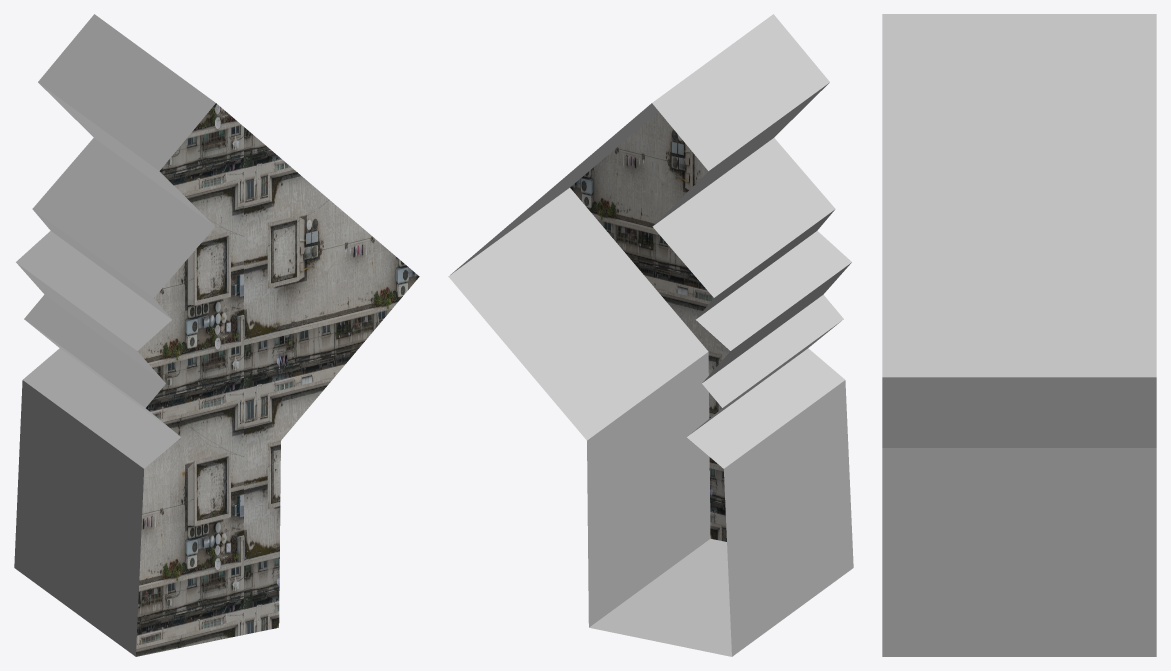
File: geospecific_671.obj
The picture shows the model from 3 angles, left to right: view 1: azimuth 30°, elevation 25°; view 2: azimuth 150°, elevation 25°; view 3: azimuth 270°, elevation 25°; orthographic projection. The views are drawn at different scales.
Parts seen in each view (by area): view 1: Building; view 2: Building; view 3: Building.
Boxes of the visible parts, bbox=[...] form: Building: bbox=[14, 14, 419, 656]; Building: bbox=[448, 14, 853, 656]; Building: bbox=[882, 14, 1156, 656].
Bounding box in the file's own units: 24.24 × 44.09 × 18.
